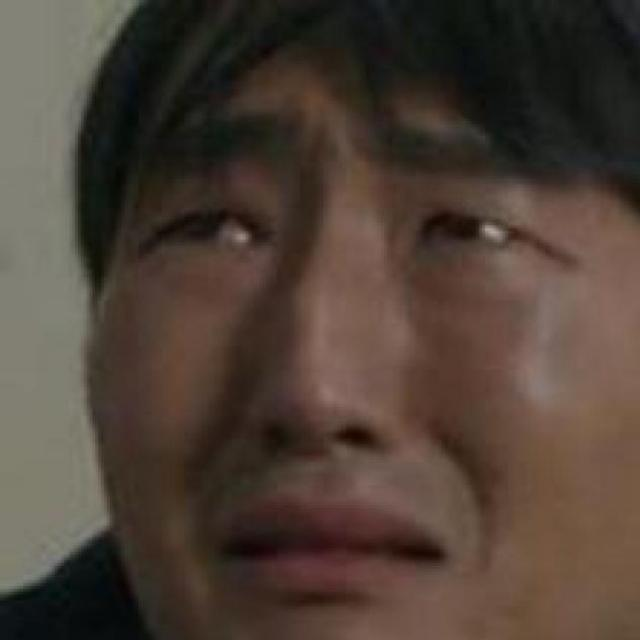Sad: (102, 102, 640, 640)
